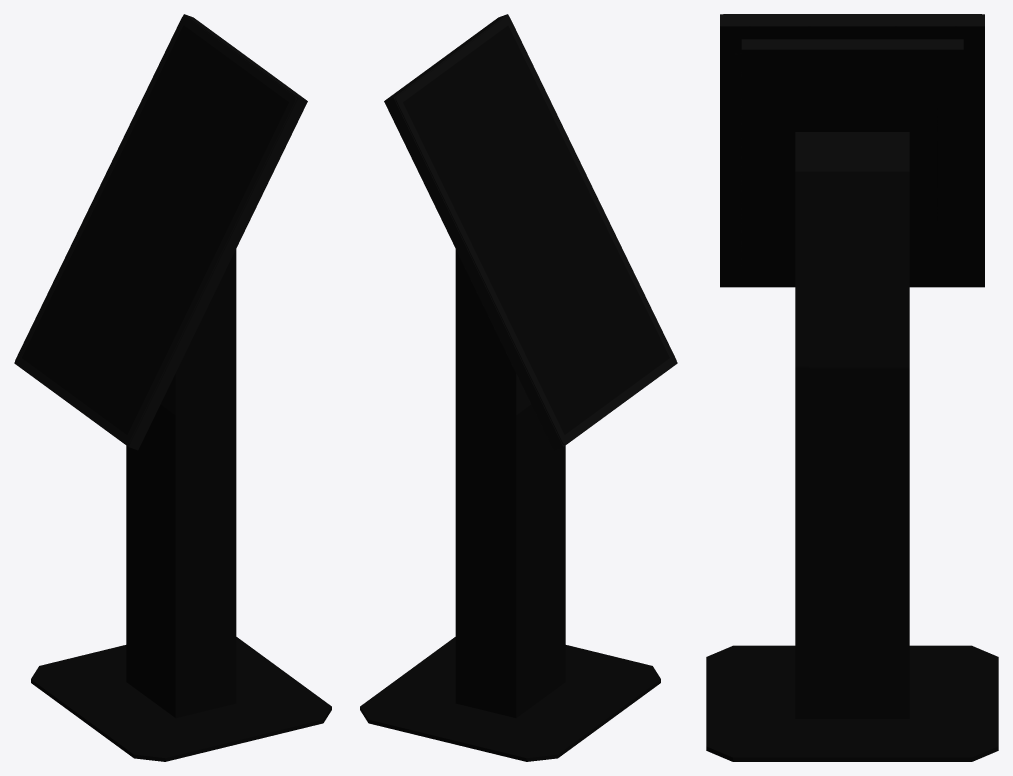
The model's file is UTC_532_floor_stand_black.fbx.
3 renders of one model, left to right at view 1: azimuth 30°, elevation 25°; view 2: azimuth 150°, elevation 25°; view 3: azimuth 270°, elevation 25°, orthographic. The views are drawn at different scales.
Parts seen in each view (by area): view 1: E, B, A, C; view 2: E, B, A, C; view 3: E, D, C.
Part boxes in pixels (left/top/right/bottom): E: left=31, top=249, right=331, bottom=761; B: left=22, top=25, right=288, bottom=434; A: left=15, top=16, right=296, bottom=444; C: left=14, top=14, right=307, bottom=450; E: left=360, top=249, right=660, bottom=761; B: left=403, top=25, right=669, bottom=434; A: left=395, top=16, right=676, bottom=444; C: left=384, top=14, right=677, bottom=450; E: left=706, top=132, right=998, bottom=761; D: left=720, top=26, right=984, bottom=287; C: left=720, top=14, right=984, bottom=26.
Bounding box in the file's own units: 48.38 × 138 × 50.48.
